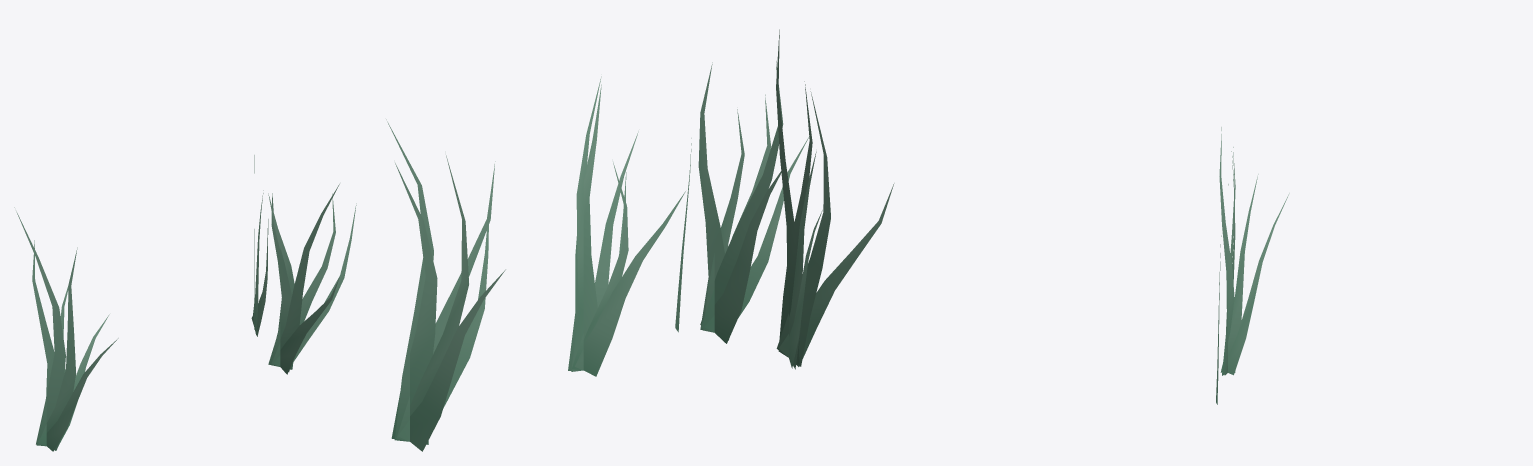
File: mesh-plant-023-coral-fanleaf_LOD1.glb
3 renders of one model, left to right at view 1: azimuth 30°, elevation 25°; view 2: azimuth 150°, elevation 25°; view 3: azimuth 270°, elevation 25°, orthographic. The views are drawn at different scales.
Visible parts, largest first — view 1: geometry_0; view 2: geometry_0; view 3: geometry_0.
Part boxes in pixels (x1,y1,x2,y2): geometry_0: [14, 155, 356, 451]; geometry_0: [386, 29, 894, 451]; geometry_0: [1216, 127, 1289, 404].
Size of the model in its own units: 1.49 by 0.9814 by 1.39.
